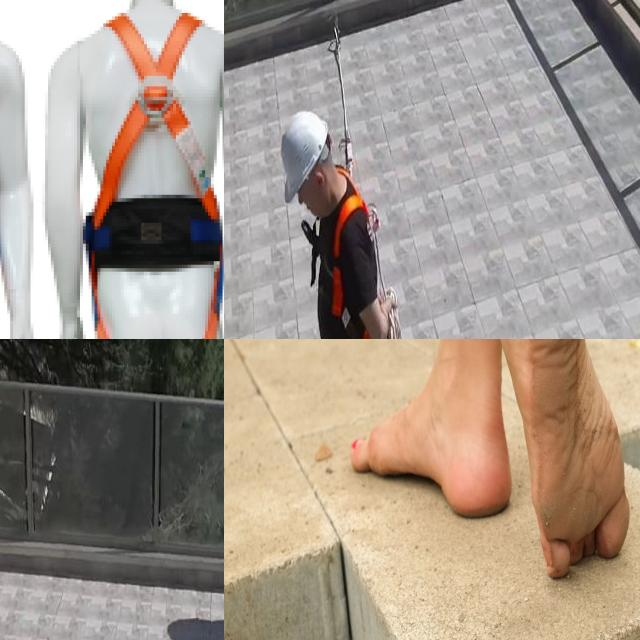Barefoots: (523, 339, 629, 579), (350, 398, 512, 519)
Harness: (118, 0, 224, 320), (0, 0, 40, 322), (332, 196, 373, 339)
